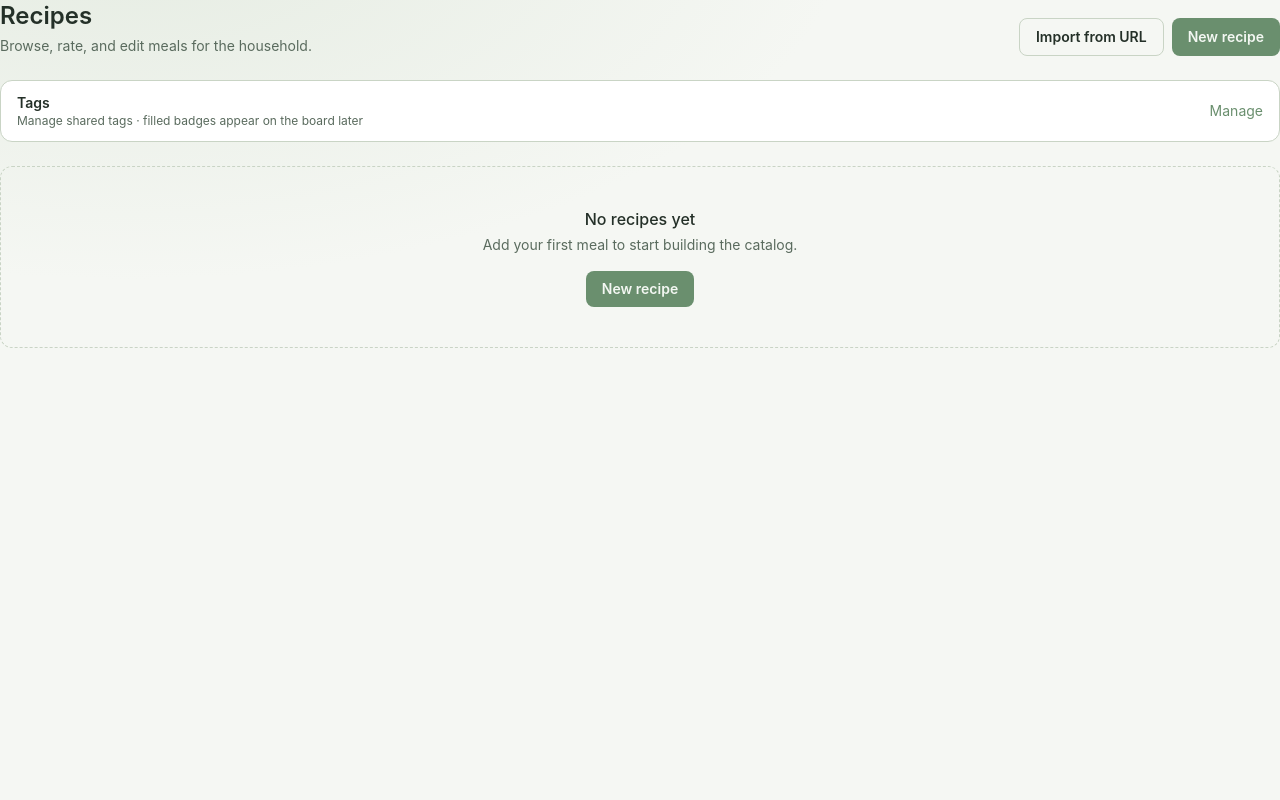
Scenario: RecipesPage › opens New recipe dialog and keeps it open under StrictMode
Expected: the text "No recipes yet" is shown, left=585, top=209, right=695, bottom=229
Click the 1st button "New recipe": (1226,37) left=1172, top=18, right=1279, bottom=56
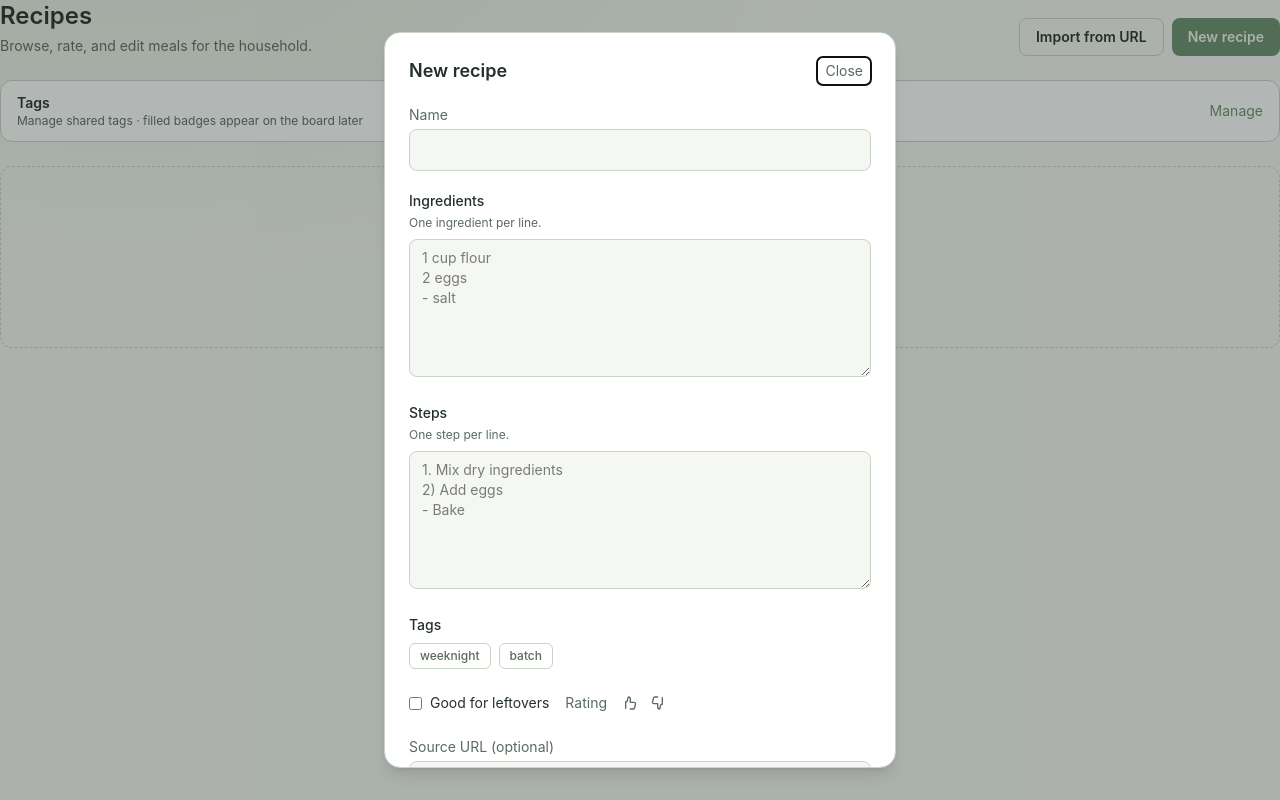
Now the heading "New recipe" is shown, box left=409, top=57, right=507, bottom=85
Now the dialog is shown, box left=384, top=32, right=896, bottom=768
